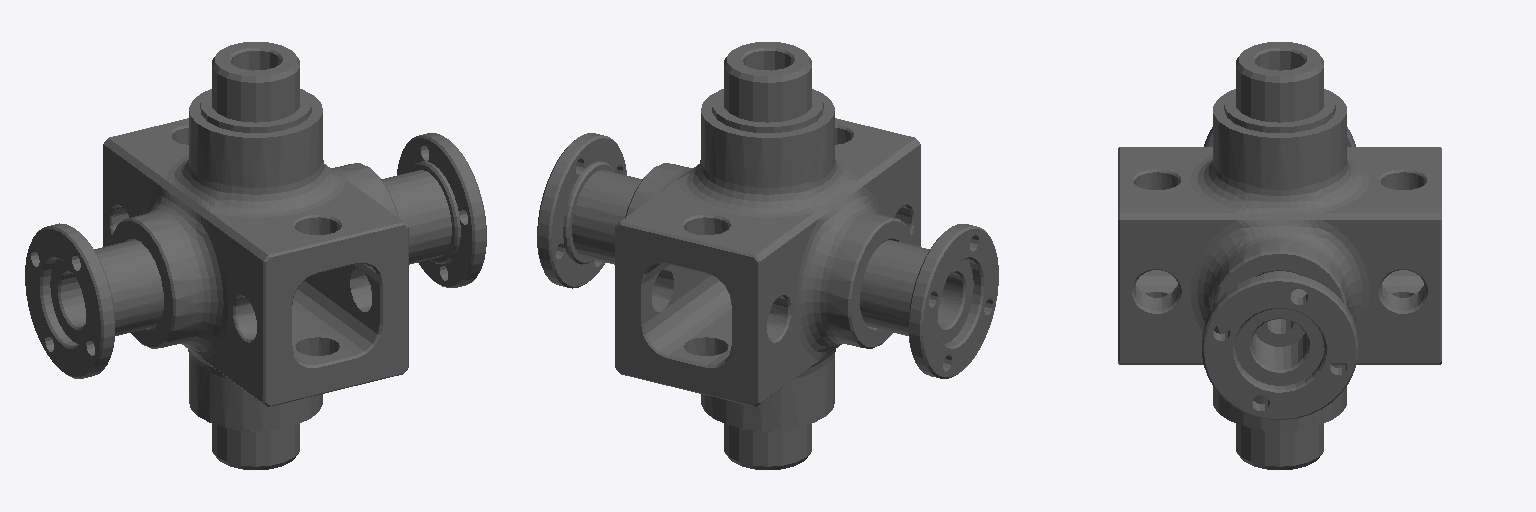
Rendered from right_foot_pitch_link.obj.
3 views of the same model, side by side, from view 1: azimuth 30°, elevation 25°; view 2: azimuth 150°, elevation 25°; view 3: azimuth 270°, elevation 25° (orthographic).
Visible parts, largest first — view 1: right_foot_pitch_link; view 2: right_foot_pitch_link; view 3: right_foot_pitch_link.
Boxes of the visible parts, x1=… form: right_foot_pitch_link: x1=25, y1=42, x2=486, y2=469; right_foot_pitch_link: x1=537, y1=42, x2=998, y2=469; right_foot_pitch_link: x1=1118, y1=42, x2=1441, y2=469.
Bounding box in the file's own units: 0.0398 × 0.0388 × 0.029.